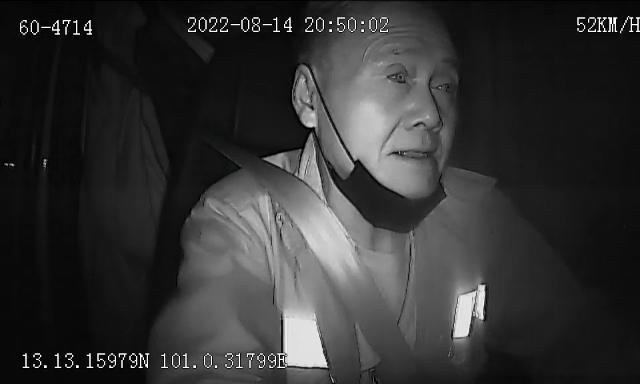SafeDriving: (380, 57, 414, 91), (426, 68, 459, 98)
Seatbelt: (206, 134, 414, 384)
